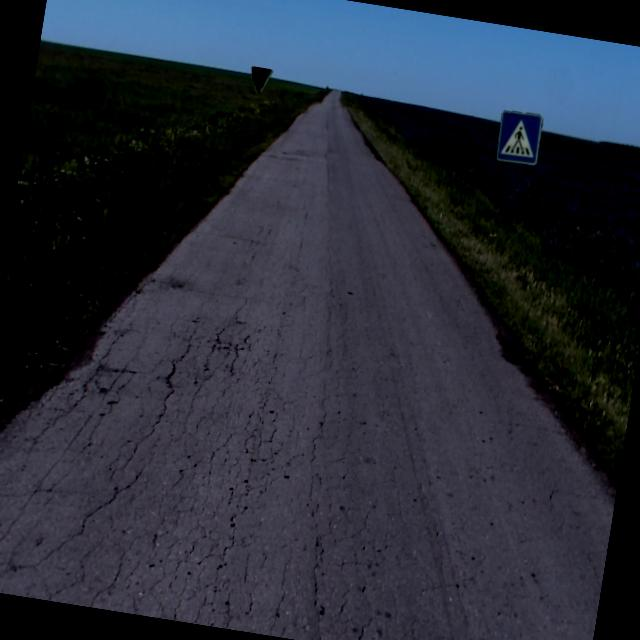road: (0, 88, 614, 640)
